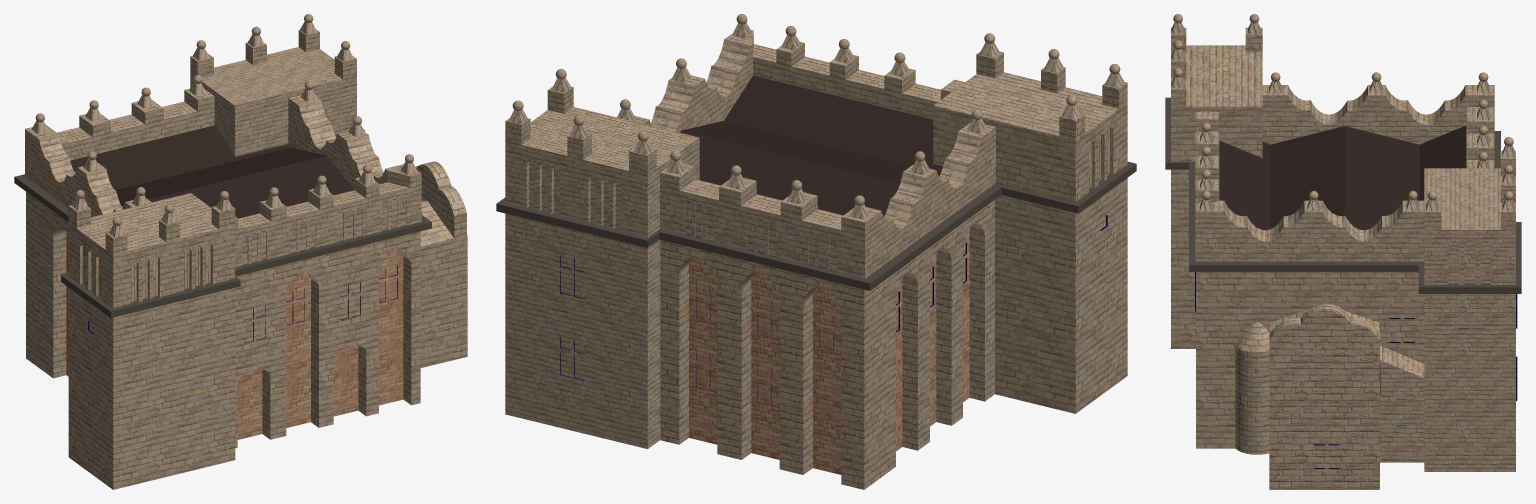
Rendered from zamek.glb.
3 views of the same model, side by side, from view 1: azimuth 30°, elevation 25°; view 2: azimuth 150°, elevation 25°; view 3: azimuth 270°, elevation 25° (orthographic). The views are drawn at different scales.
Visible parts, largest first — view 1: Zamek; view 2: Zamek; view 3: Zamek.
Boxes of the visible parts, x1,y1,x2,y2 form: Zamek: (14, 14, 467, 489); Zamek: (496, 14, 1136, 489); Zamek: (1165, 14, 1521, 489).
Bounding box in the file's own units: 10.73 × 6.72 × 7.84.
Materials: 5 (2 with a texture image).
